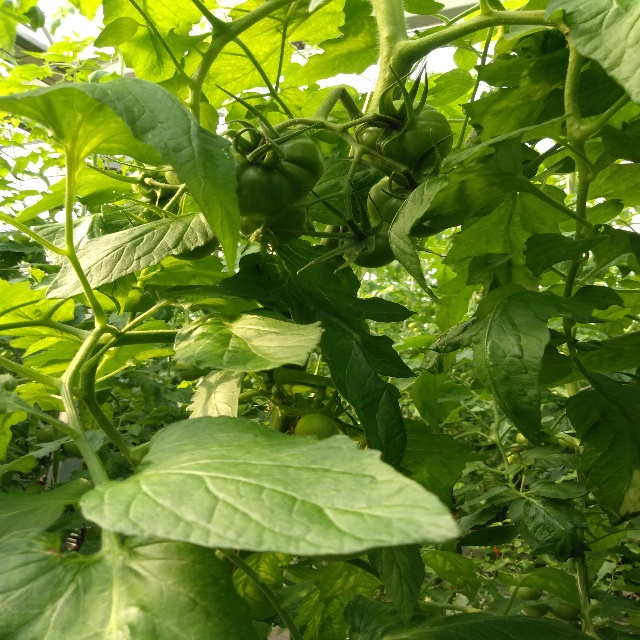b_green: (226, 124, 324, 218), (354, 100, 454, 172), (367, 170, 455, 238), (240, 195, 314, 245), (344, 219, 404, 268), (294, 413, 333, 440)
